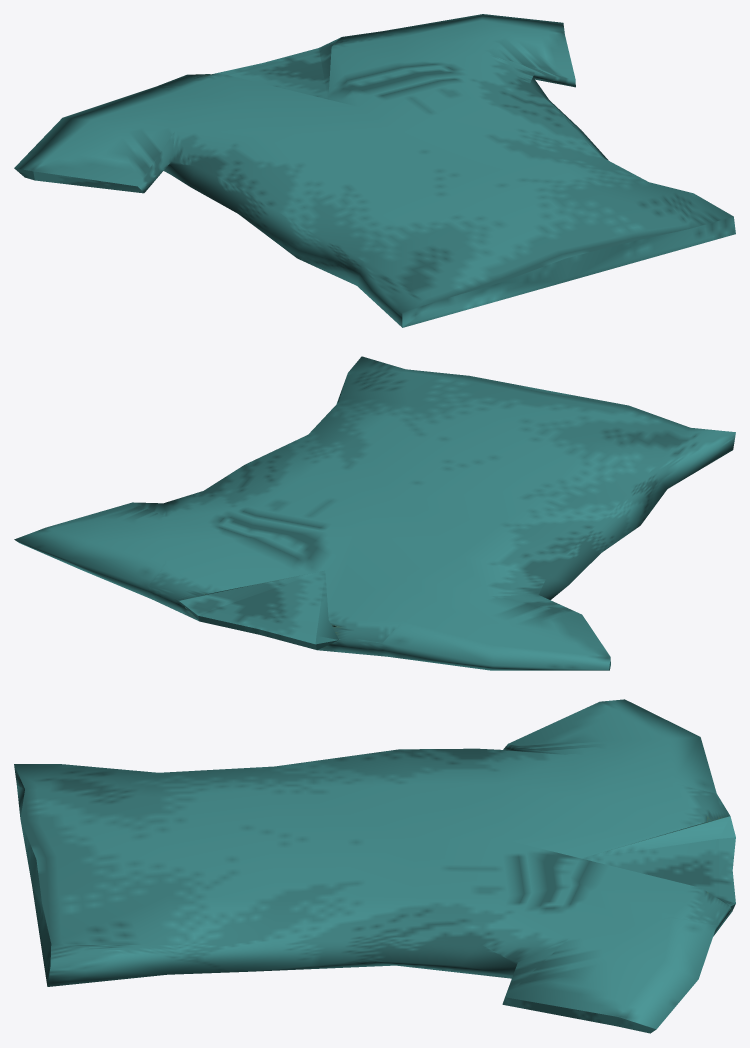
Rendered from TShirt_Ground.fbx.
3 renders of one model, top to bottom at view 1: azimuth 30°, elevation 25°; view 2: azimuth 150°, elevation 25°; view 3: azimuth 270°, elevation 25°, orthographic. The views are drawn at different scales.
Visible parts, largest first — view 1: Bob_TShirt_Ground; view 2: Bob_TShirt_Ground; view 3: Bob_TShirt_Ground.
Part boxes in pixels (x1,y1,x2,y2): Bob_TShirt_Ground: [14, 14, 735, 327]; Bob_TShirt_Ground: [14, 356, 735, 670]; Bob_TShirt_Ground: [14, 699, 735, 1033].
Size of the model in its own units: 0.4256 by 0.0241 by 0.3957.
